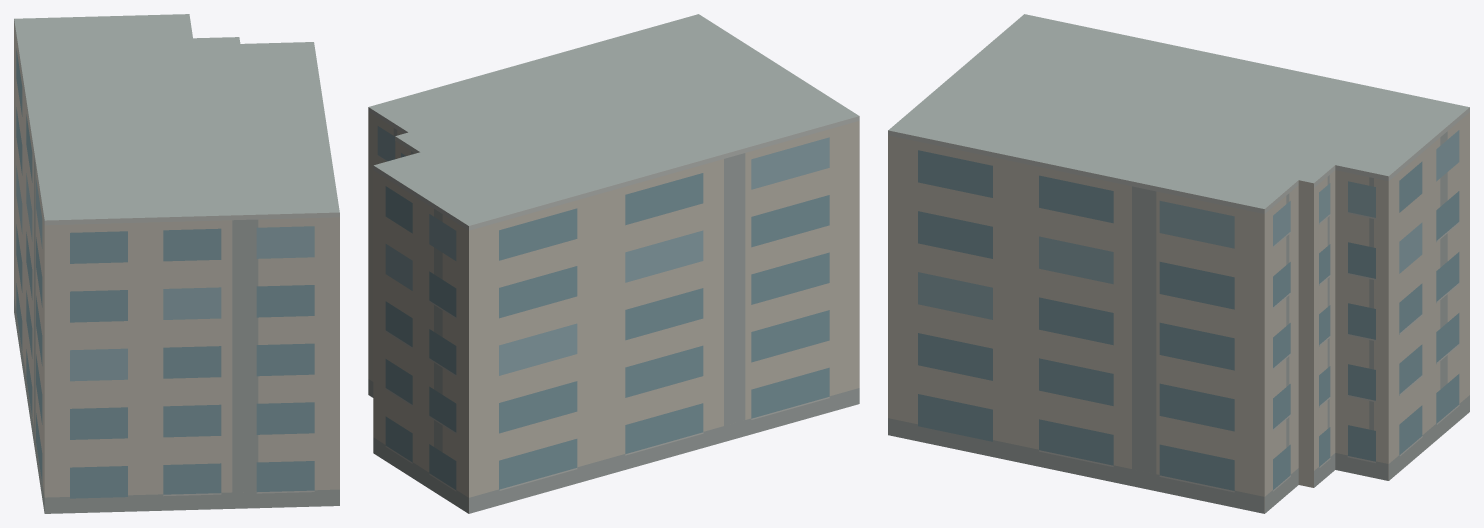
The model's file is residential-6b1553b0-20b8-4888-80a9-c527e1bbc9ac.glb.
3 views of the same model, side by side, from view 1: azimuth 30°, elevation 25°; view 2: azimuth 150°, elevation 25°; view 3: azimuth 270°, elevation 25° (orthographic). The views are drawn at different scales.
Parts seen in each view (by area): view 1: residential-6b1553b0-20b8-4888-80a9-c527e1bbc9ac.tmp; view 2: residential-6b1553b0-20b8-4888-80a9-c527e1bbc9ac.tmp; view 3: residential-6b1553b0-20b8-4888-80a9-c527e1bbc9ac.tmp.
Boxes of the visible parts, bbox=[...] form: residential-6b1553b0-20b8-4888-80a9-c527e1bbc9ac.tmp: bbox=[14, 14, 339, 513]; residential-6b1553b0-20b8-4888-80a9-c527e1bbc9ac.tmp: bbox=[368, 14, 859, 513]; residential-6b1553b0-20b8-4888-80a9-c527e1bbc9ac.tmp: bbox=[888, 14, 1469, 513].
Bounding box in the file's own units: 20.61 × 15 × 25.96.
